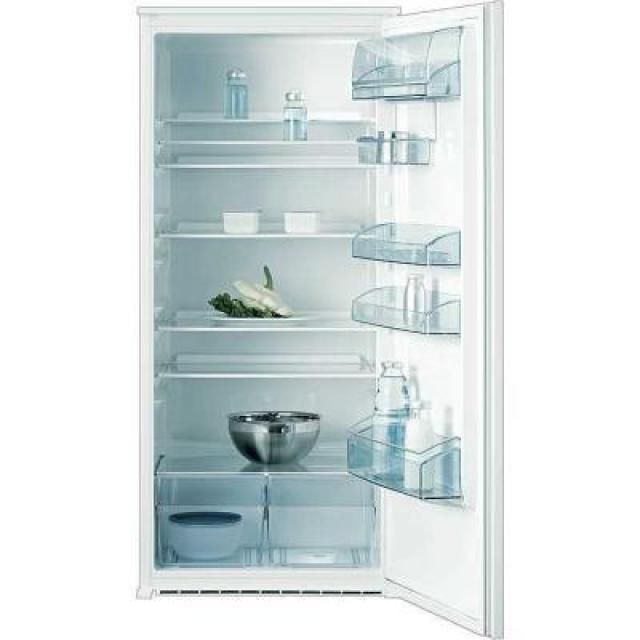refrigerator: (136, 6, 487, 592)
